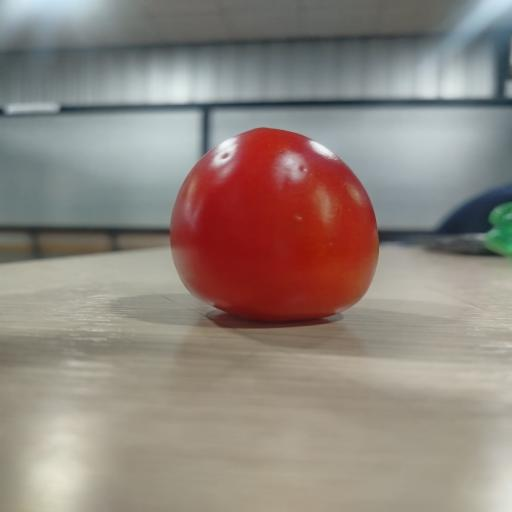ripe: (170, 128, 378, 321)
